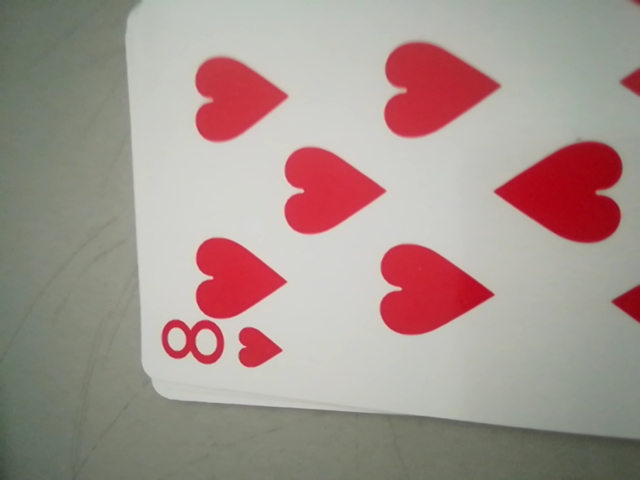hx 8: (157, 311, 288, 383)
